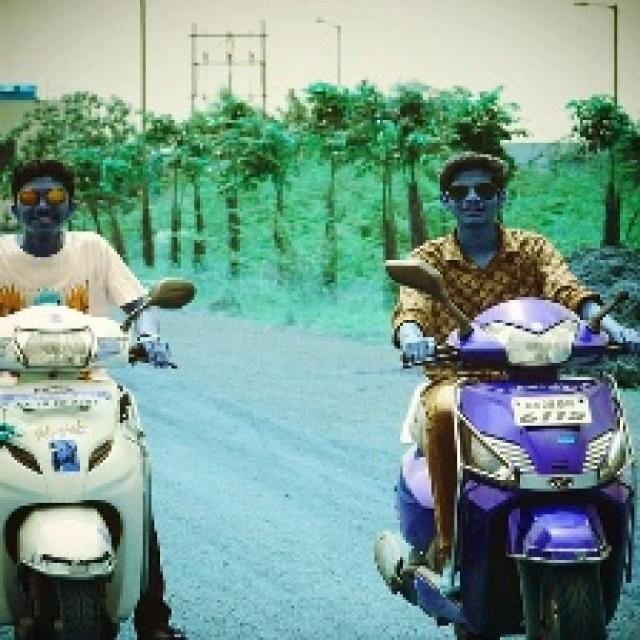bike: (392, 292, 632, 638), (2, 300, 166, 640)
